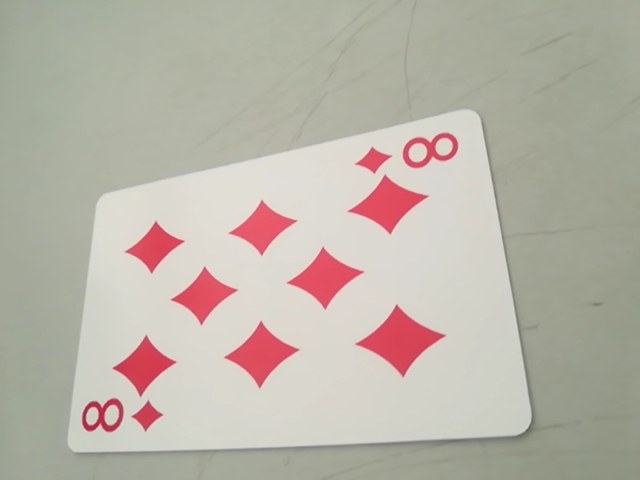fk 8: (76, 394, 166, 450), (362, 128, 467, 176)
